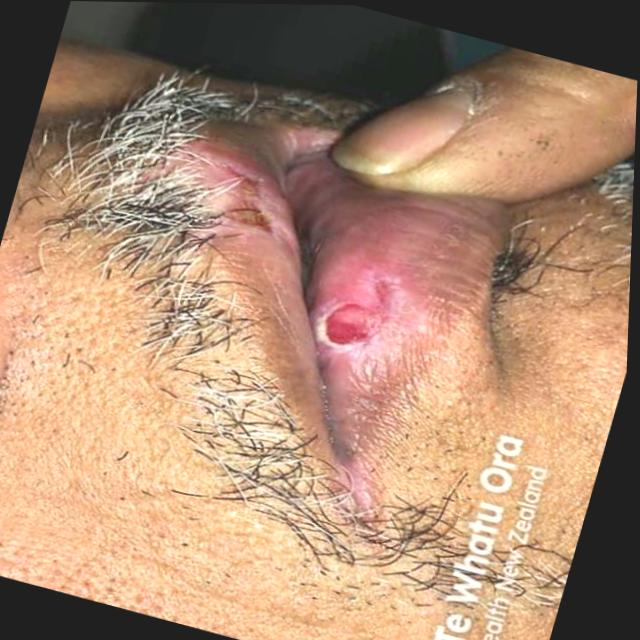lupus-detected: (283, 207, 435, 414), (173, 108, 316, 271)
